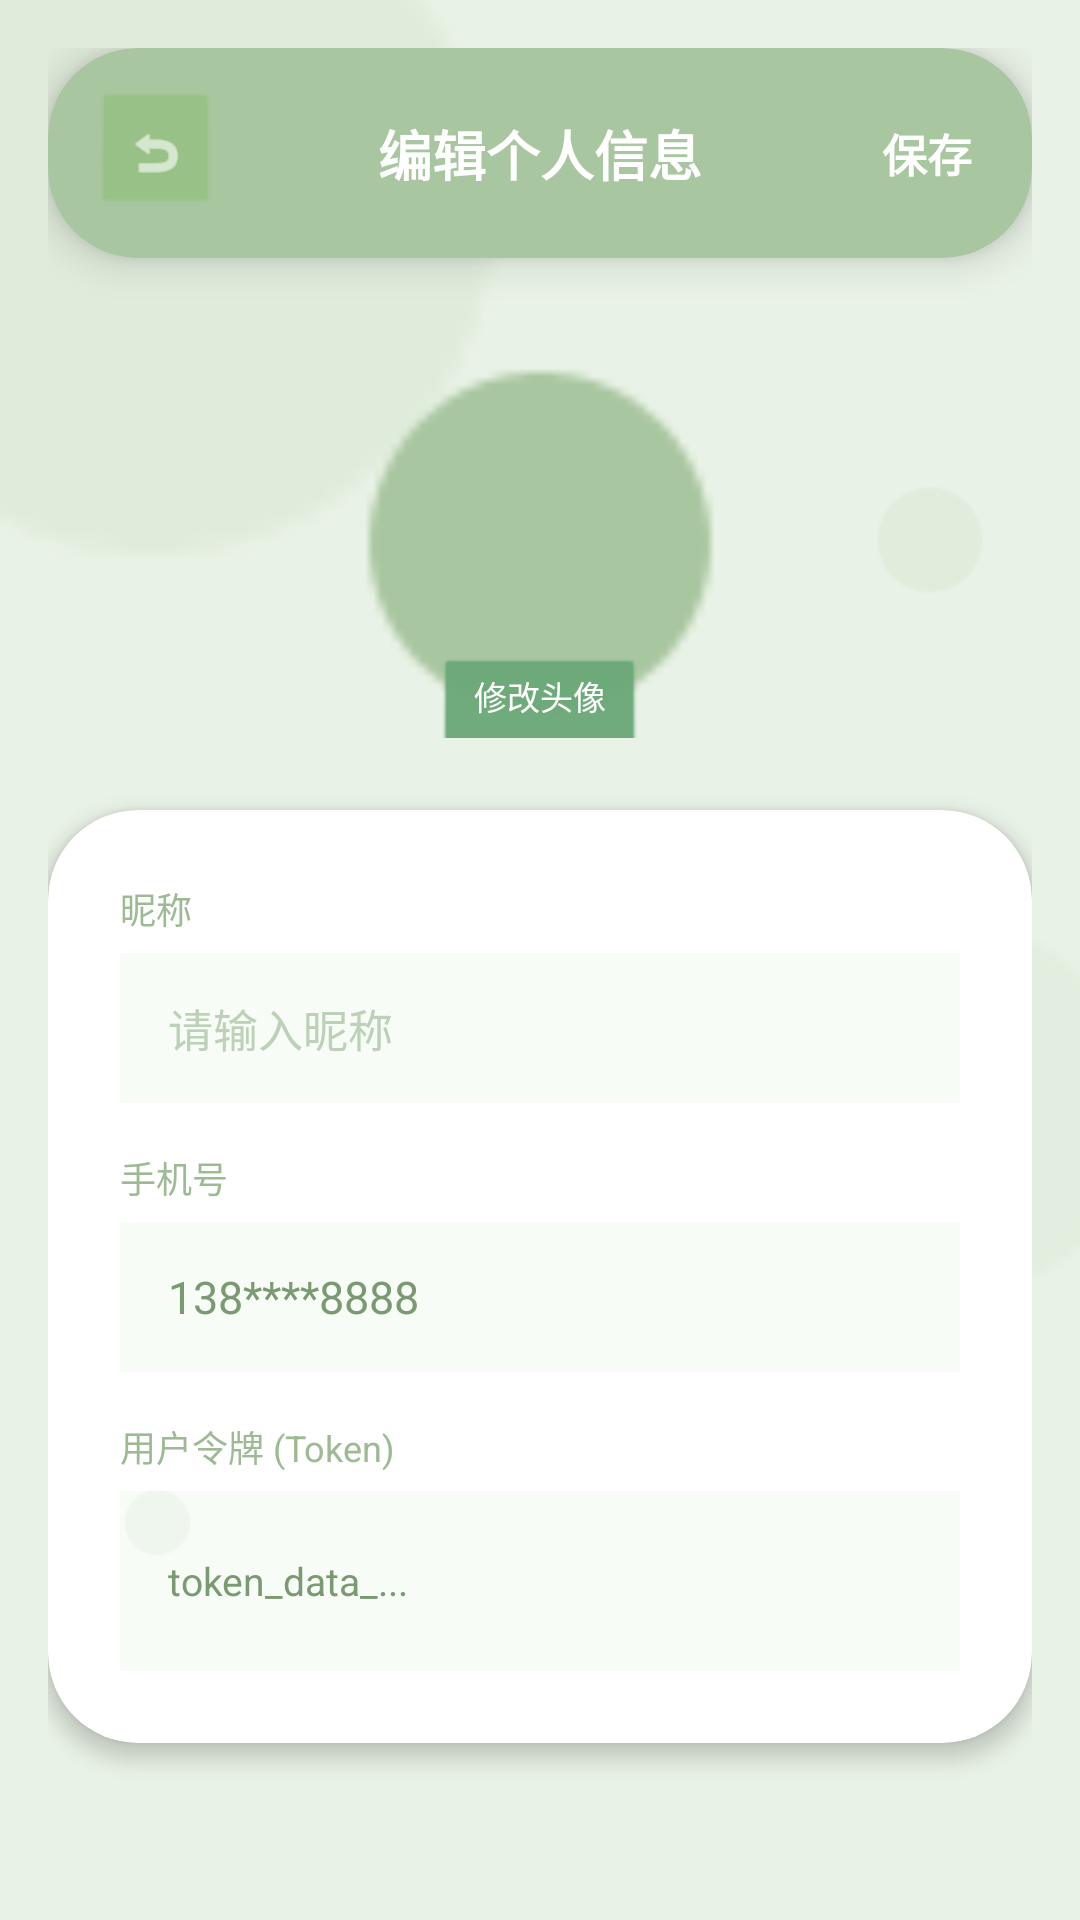

Icon bounding boxes for this 1080×1920 phone screenshot, format (x1, y1, x2, y2):
revert: (102, 94, 209, 201)
